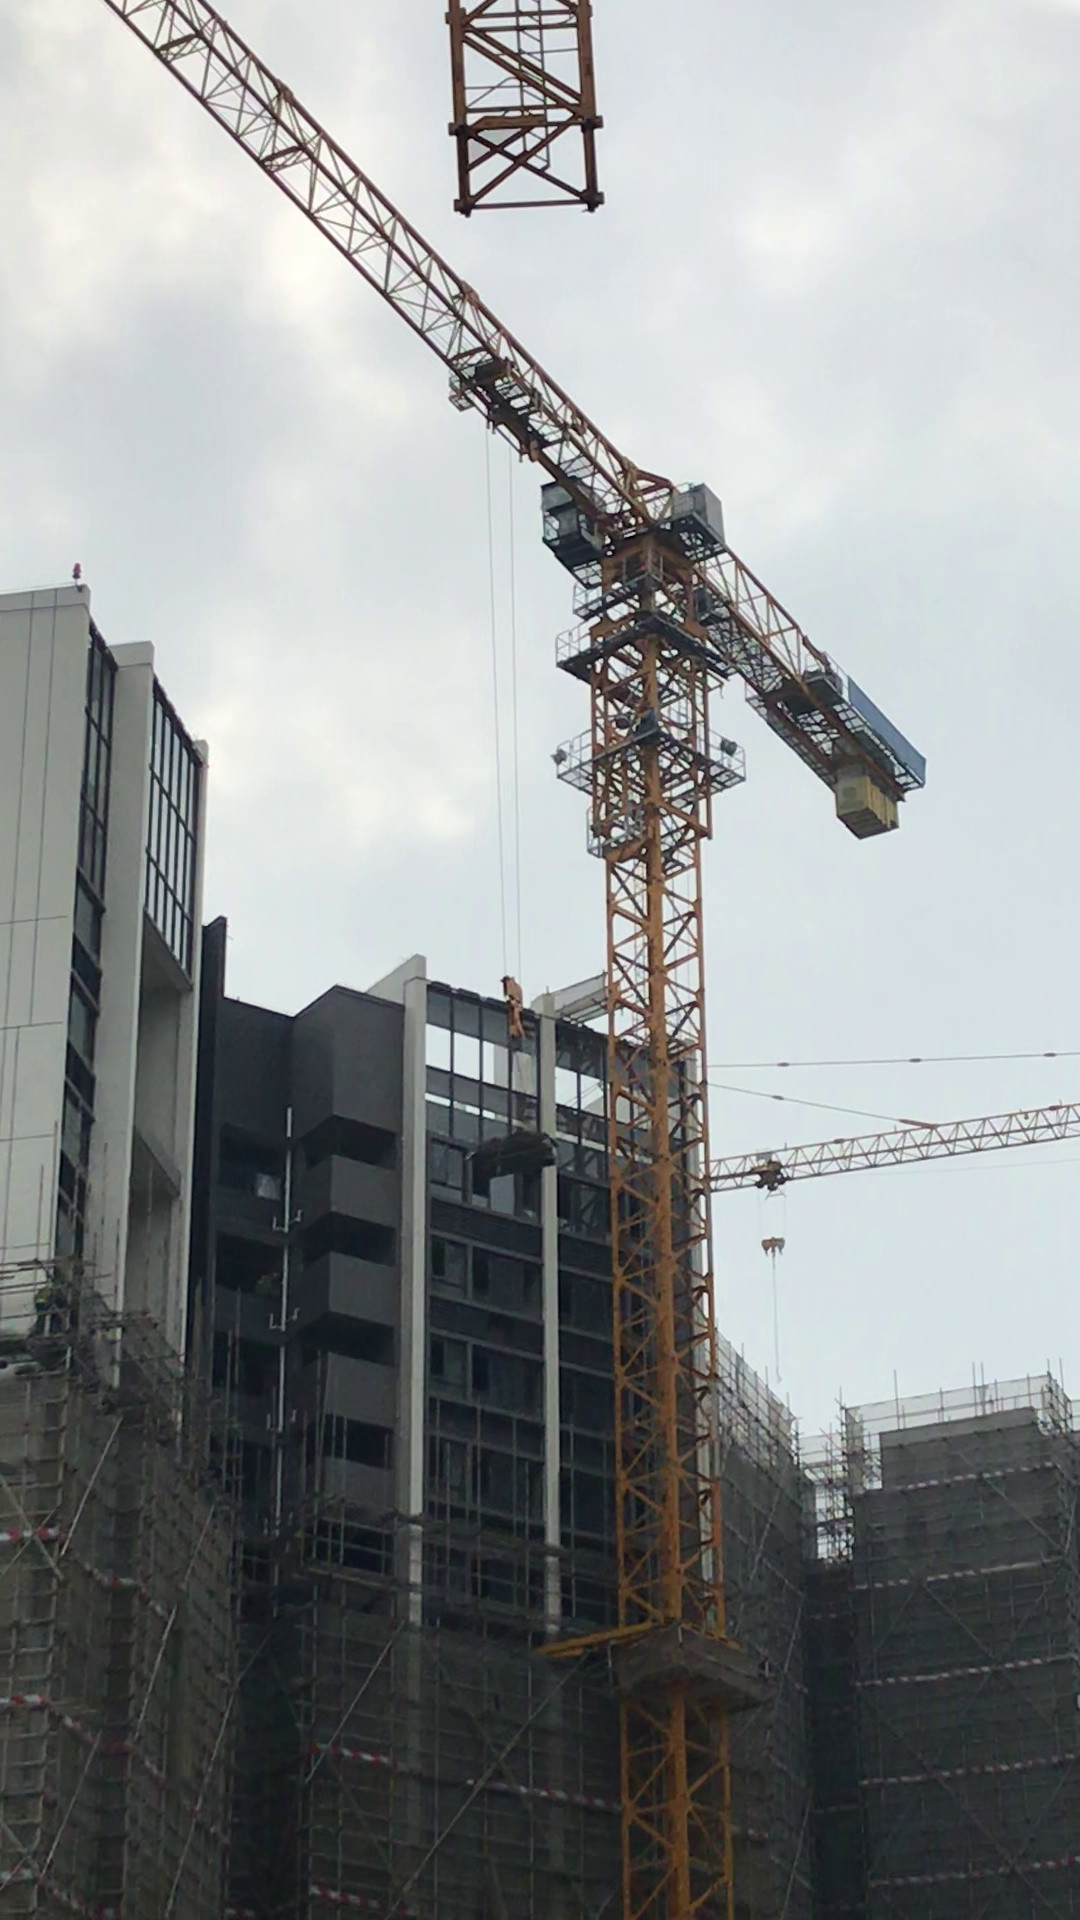hook: (476, 963, 568, 1071)
